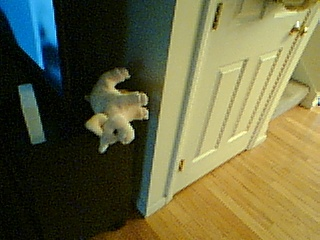piggy: (81, 65, 152, 155)
